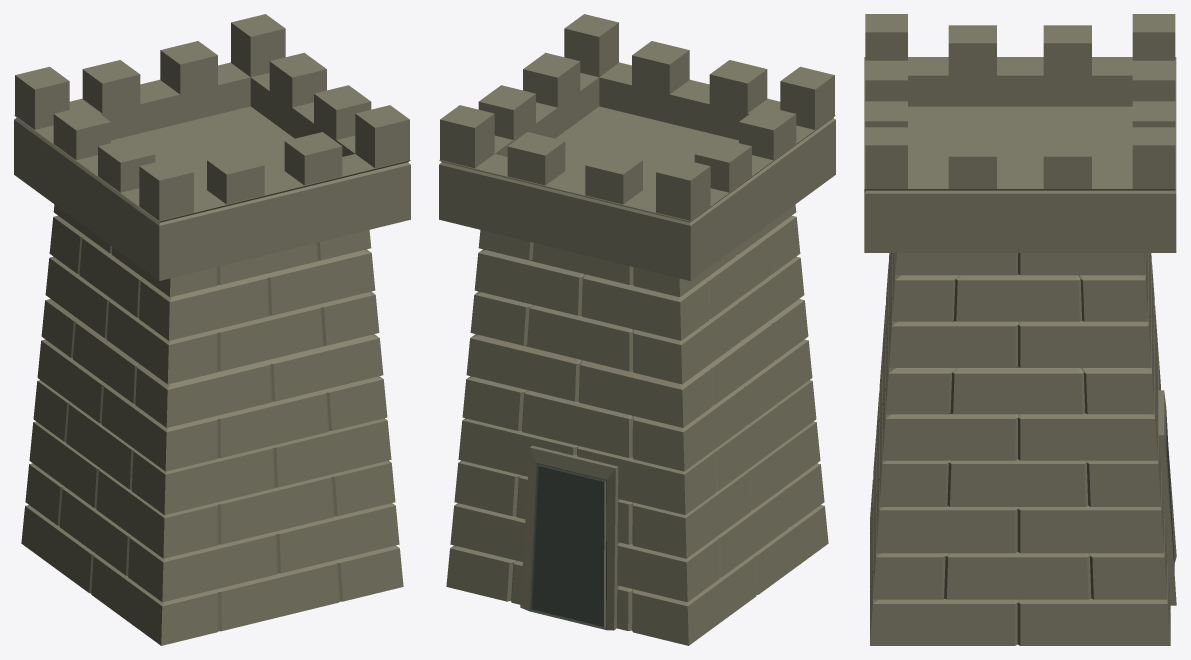
Rendered from GuardTower_3_lvl_mat.fbx.
The picture shows the model from 3 angles, left to right: view 1: azimuth 30°, elevation 25°; view 2: azimuth 150°, elevation 25°; view 3: azimuth 270°, elevation 25°; orthographic projection. The views are drawn at different scales.
Parts seen in each view (by area): view 1: GuardTower_3_lvl_mat; view 2: GuardTower_3_lvl_mat; view 3: GuardTower_3_lvl_mat.
Boxes of the visible parts, left/top/right/bottom form: GuardTower_3_lvl_mat: left=14, top=14, right=410, bottom=645; GuardTower_3_lvl_mat: left=439, top=14, right=835, bottom=645; GuardTower_3_lvl_mat: left=864, top=14, right=1176, bottom=645.
Bounding box in the file's own units: 1.46 × 2.6 × 1.46.
